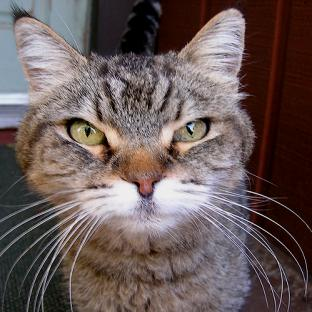Animal: (14, 0, 253, 311)
